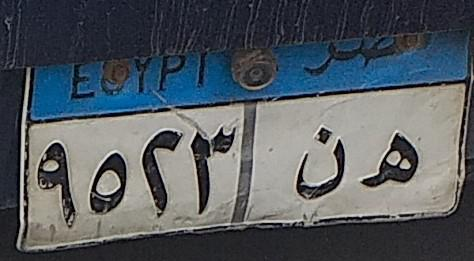2: (144, 113, 185, 216)
3: (186, 105, 239, 232)
5: (86, 150, 138, 221)
9: (22, 141, 88, 237)
ن: (291, 107, 359, 213)
ه: (360, 118, 426, 216)
